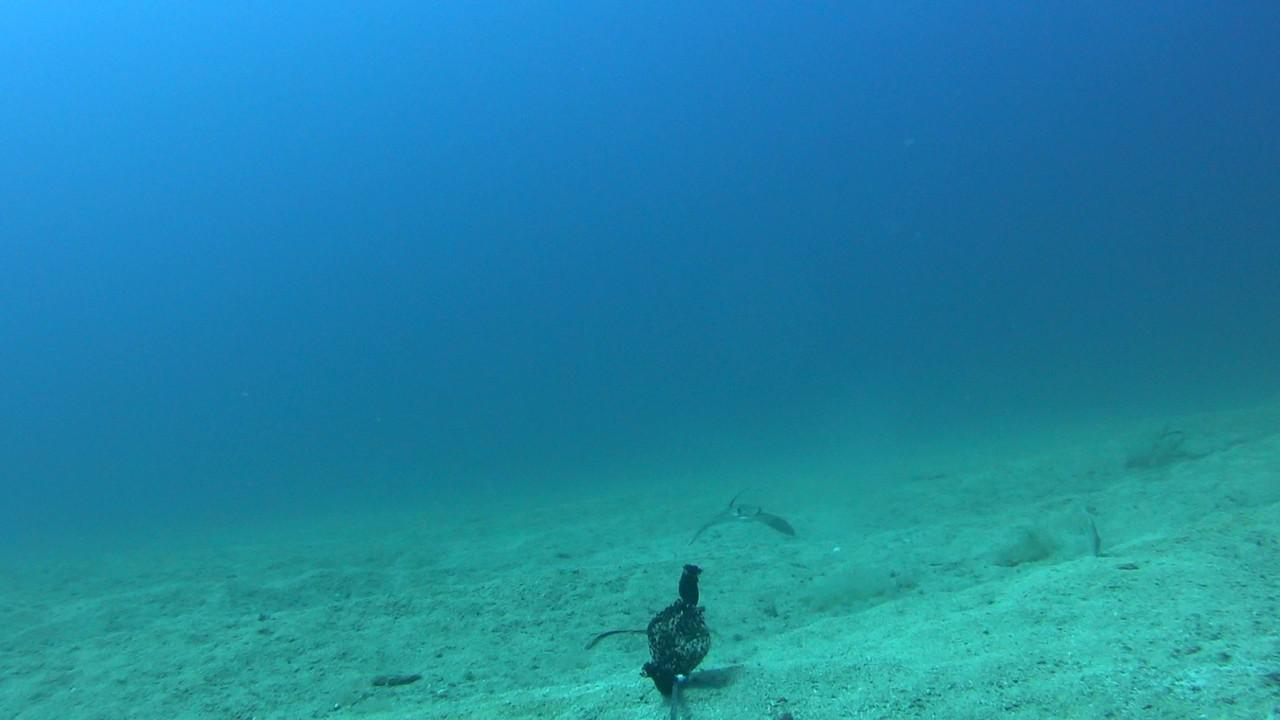myliobatis: (687, 486, 858, 560)
